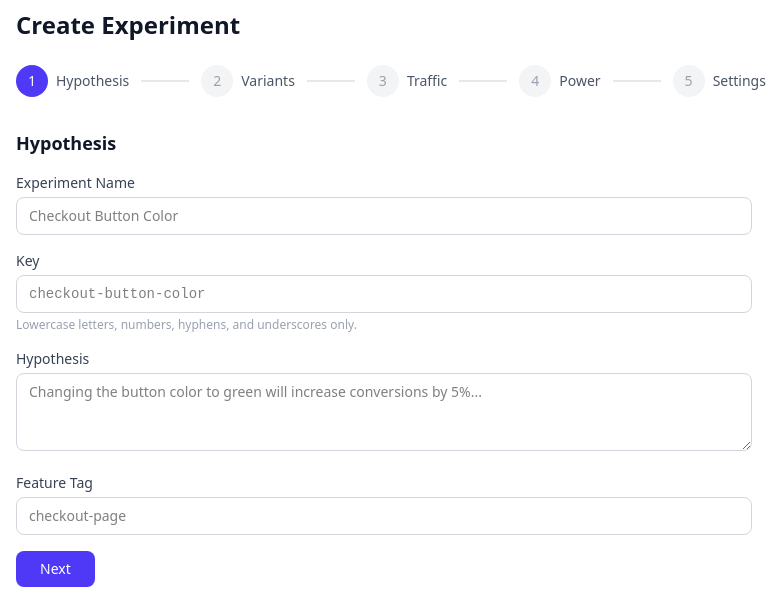
Test case: CreateExperimentPage — Power calculator wizard step › disables Calculate and shows an inline error when a required field is cleared
Step 1. Type "Test Experiment" into the field with placeholder "Checkout Button Color" → point(384, 216), box 16,197 -> 752,235
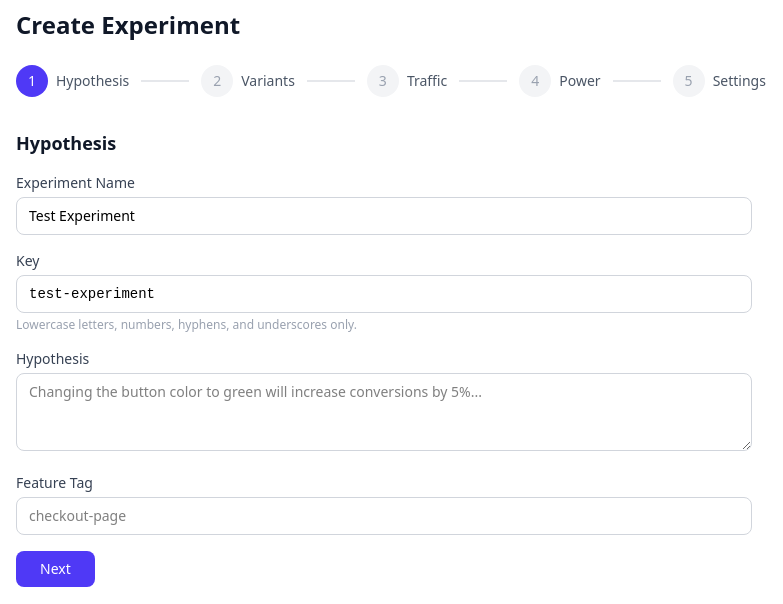
Step 2. Click the button "Next" → point(55, 569), box 16,551 -> 95,587
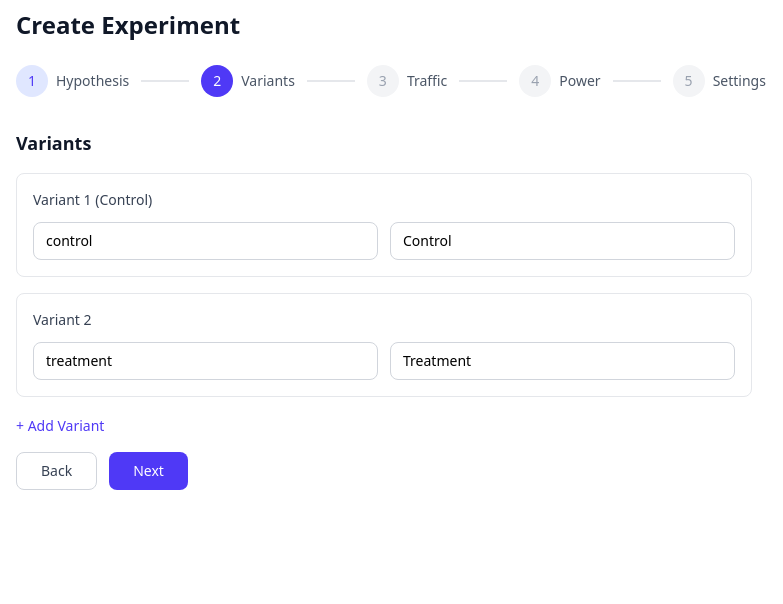
Step 3. Click the button "Next" → point(149, 471), box 109,452 -> 188,490
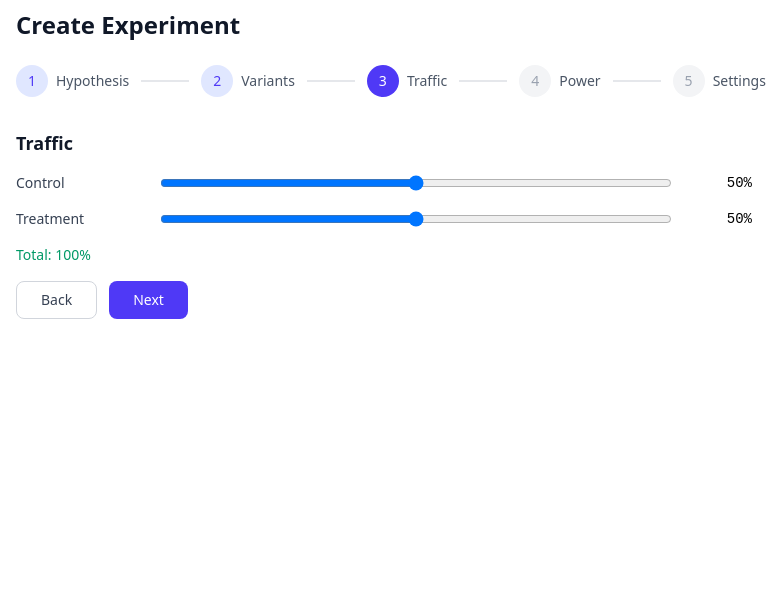
Step 4. Click the button "Next" → point(149, 300), box 109,281 -> 188,319
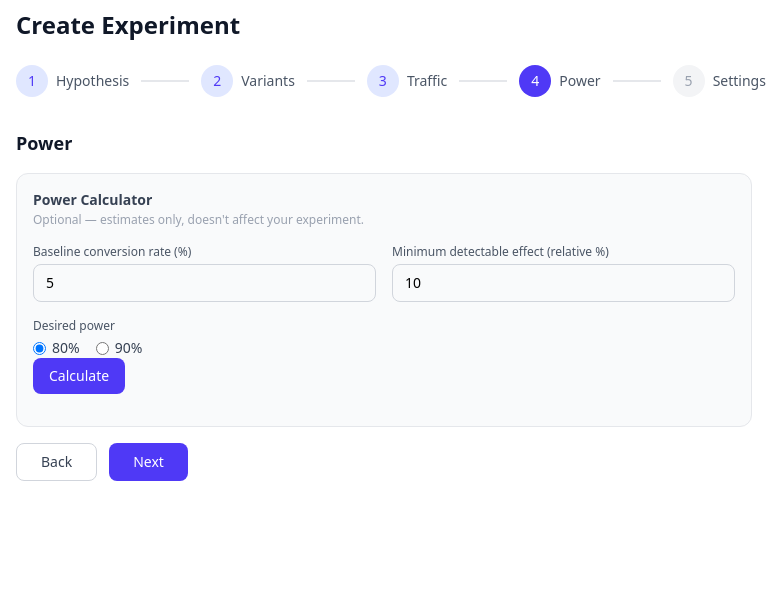
Check: the heading "Power Calculator" is shown, box 33,190 -> 152,209
Step 5. Clear the number field labelled "Baseline conversion rate (%)" → point(204, 283), box 33,264 -> 376,302
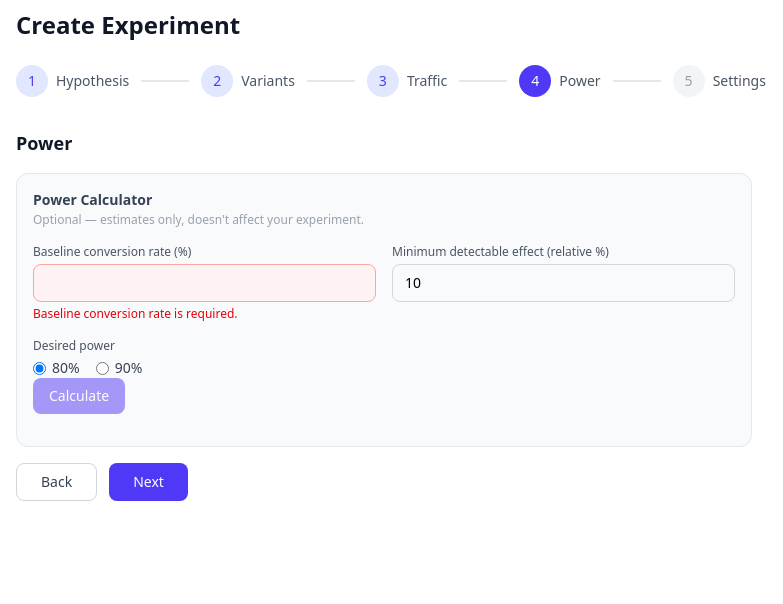
Check: the text "Baseline conversion rate is required." is shown, box 33,305 -> 238,322
Check: the button "Calculate" is disabled, box 33,378 -> 125,414
